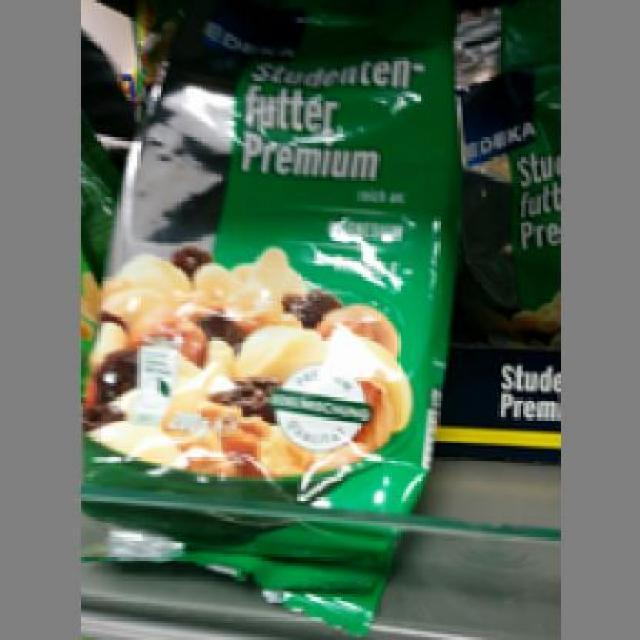Nuts: (80, 9, 463, 632)
